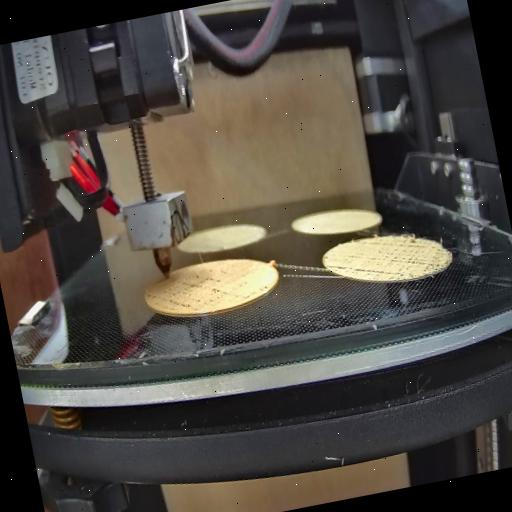under_extrusion: (347, 226, 448, 282), (144, 267, 236, 323), (240, 278, 271, 306), (324, 258, 350, 278)
